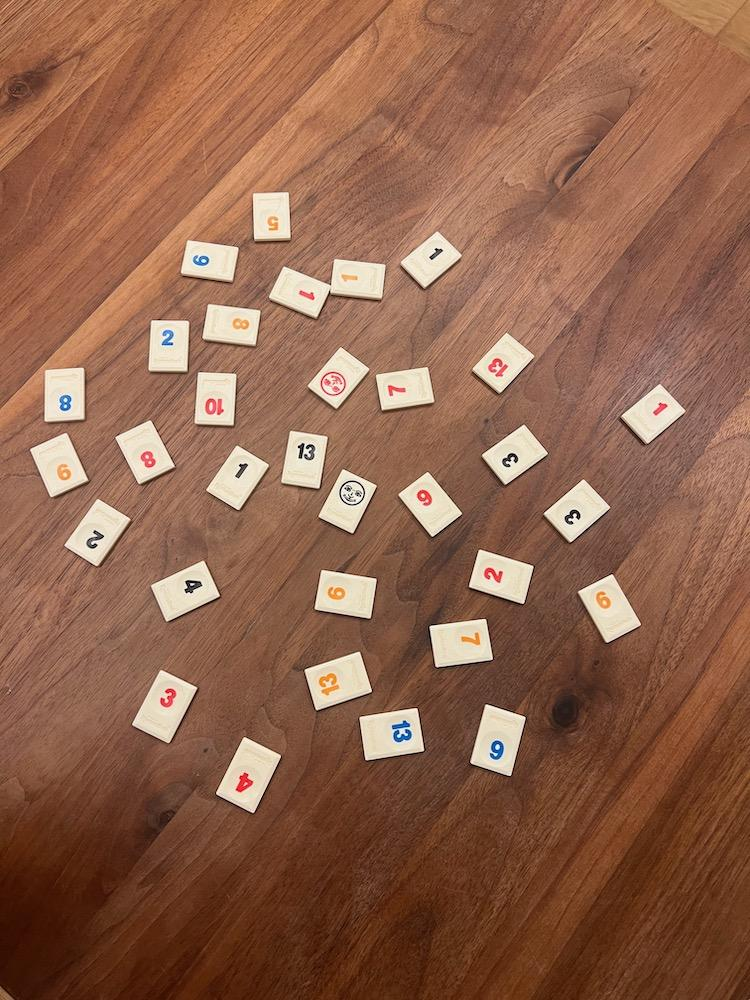black_1: (207, 445, 268, 510), (400, 232, 461, 289)
black_13: (281, 432, 328, 488)
black_2: (64, 500, 131, 566)
black_3: (545, 480, 609, 541), (482, 426, 547, 484)
black_4: (152, 561, 219, 621)
blue_13: (360, 709, 424, 760)
blue_2: (148, 321, 189, 373)
blue_6: (471, 705, 525, 775), (183, 240, 238, 283)
blue_8: (45, 368, 84, 421)
joker: (318, 471, 377, 533), (309, 348, 369, 408)
orange_1: (331, 260, 384, 298)
orange_13: (305, 652, 371, 711)
orange_5: (254, 193, 290, 240)
orange_6: (578, 574, 641, 643), (314, 570, 376, 618)
orange_7: (431, 619, 492, 668)
orange_8: (204, 305, 259, 345)
orange_9: (32, 434, 88, 498)
red_1: (621, 385, 686, 443), (270, 269, 330, 318)
red_10: (195, 374, 236, 426)
red_13: (473, 334, 533, 393)
red_2: (470, 549, 532, 604)
red_3: (133, 670, 197, 742)
red_4: (217, 738, 281, 812)
red_7: (377, 367, 434, 410)
red_8: (115, 420, 174, 484)
red_9: (399, 473, 461, 537)
